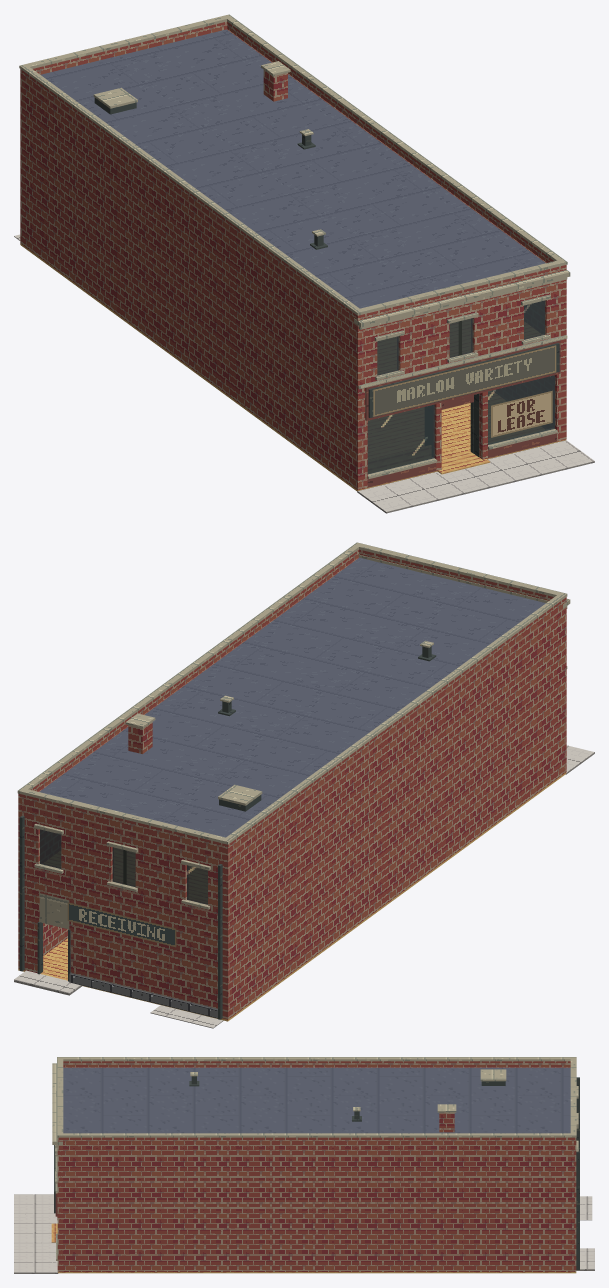
File: marlow-closed-far.glb
The picture shows the model from 3 angles, top to bottom: view 1: azimuth 30°, elevation 25°; view 2: azimuth 150°, elevation 25°; view 3: azimuth 270°, elevation 25°; orthographic projection. The views are drawn at different scales.
Visible parts, largest first — view 1: building_shell, roof_and_parapet, Shared street sidewalk, sign_name, sign_for_lease; view 2: building_shell, roof_and_parapet, sign_receiving, Rear receiving pad, lot; view 3: building_shell, roof_and_parapet, Shared street sidewalk, Rear receiving pad, lot.
Part boxes in pixels (<box>): building_shell: <box>20,29,567,491</box>; roof_and_parapet: <box>19,14,570,329</box>; Shared street sidewalk: <box>357,440,594,513</box>; sign_name: <box>373,345,556,416</box>; sign_for_lease: <box>491,390,552,437</box>; building_shell: <box>18,557,567,1021</box>; roof_and_parapet: <box>17,542,570,854</box>; sign_receiving: <box>67,902,176,947</box>; Rear receiving pad: <box>14,970,81,995</box>; lot: <box>150,1005,223,1028</box>; building_shell: <box>51,1067,579,1273</box>; roof_and_parapet: <box>52,1057,576,1147</box>; Shared street sidewalk: <box>14,1194,58,1273</box>; Rear receiving pad: <box>576,1248,594,1270</box>; lot: <box>580,1196,592,1220</box>.
Size of what is drawn, in the model's own units: 10.05 by 9.06 by 31.36.
10 materials, 10 textured.
